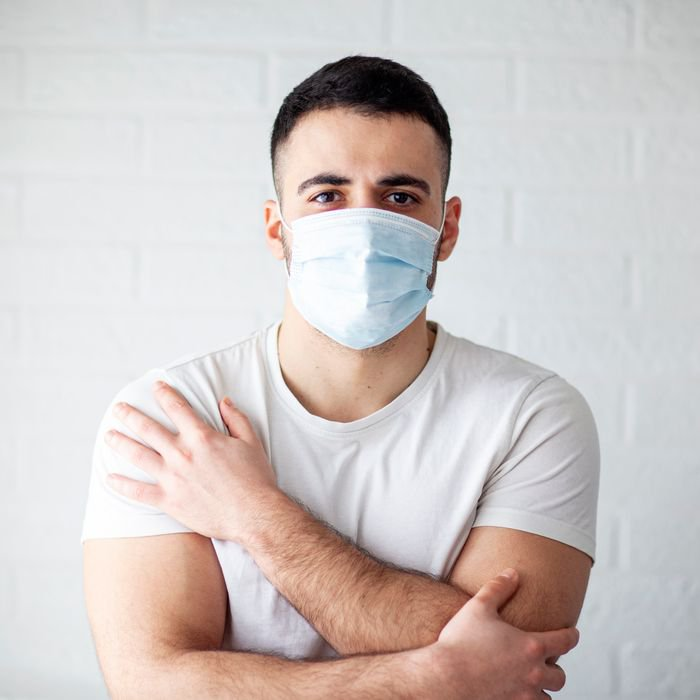mask: (247, 49, 511, 374)
